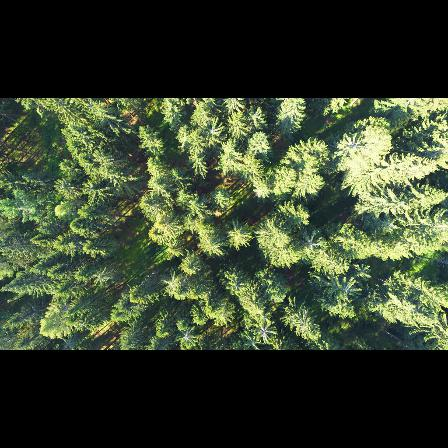Sick: (201, 117, 225, 145), (300, 230, 323, 258), (160, 273, 183, 298), (91, 266, 113, 290), (175, 328, 200, 346), (255, 323, 276, 341), (60, 335, 81, 350)
